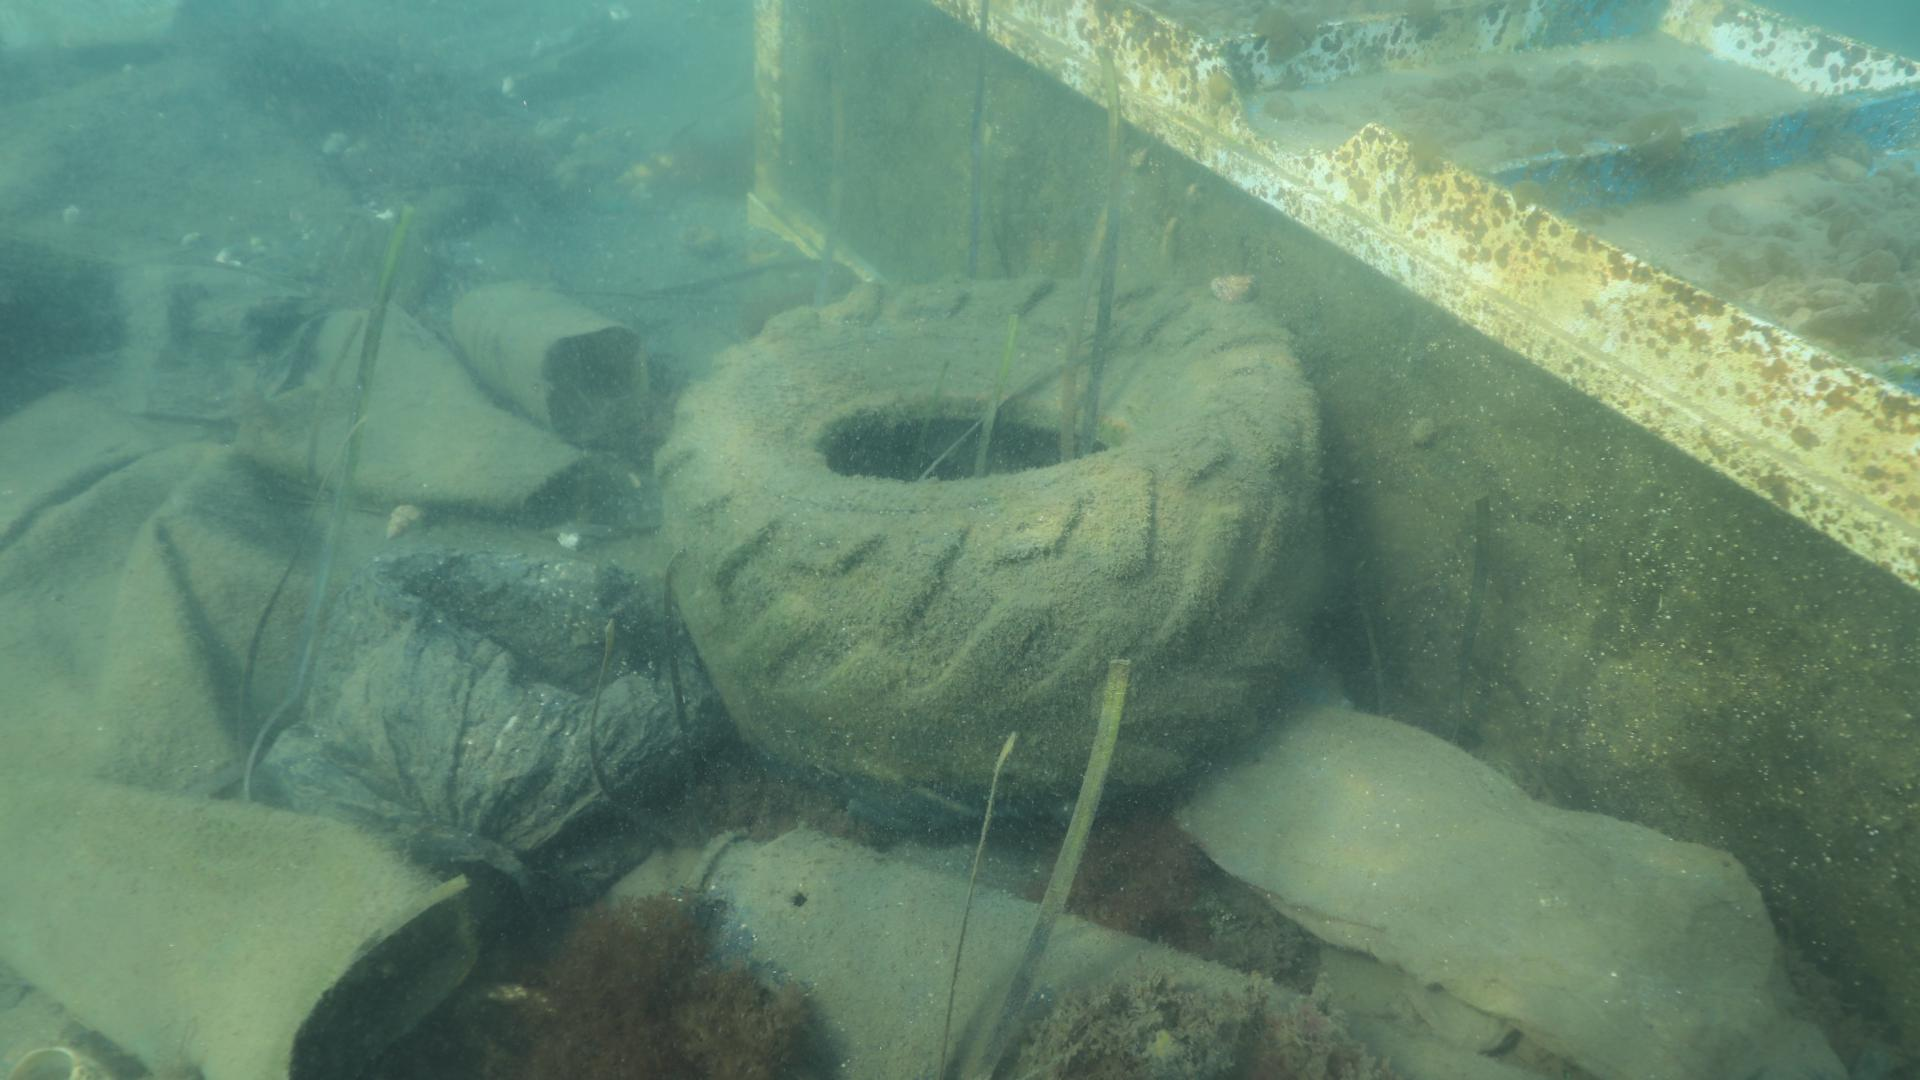tire: (651, 274, 1323, 829)
